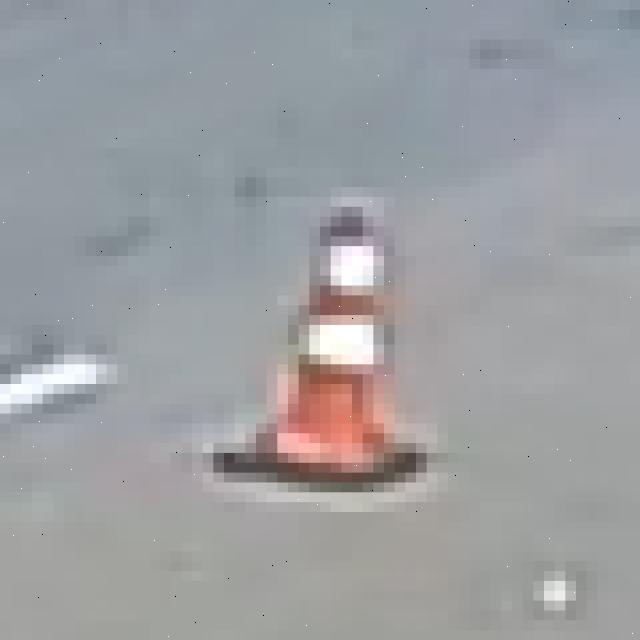small_cone: (224, 187, 427, 492)
